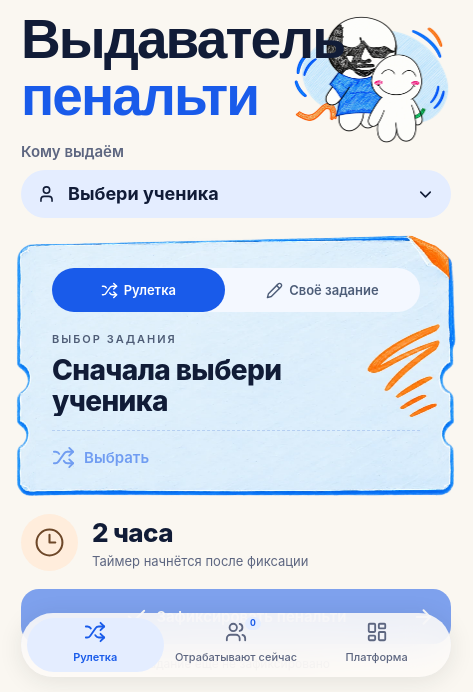
Test: the studio keeps the task title and full instructions, without a school wordmark
Select "@demo_peer" in the dropdown labelled "Кому выдаём". click: (236, 194)
box: [66,170,406,218]
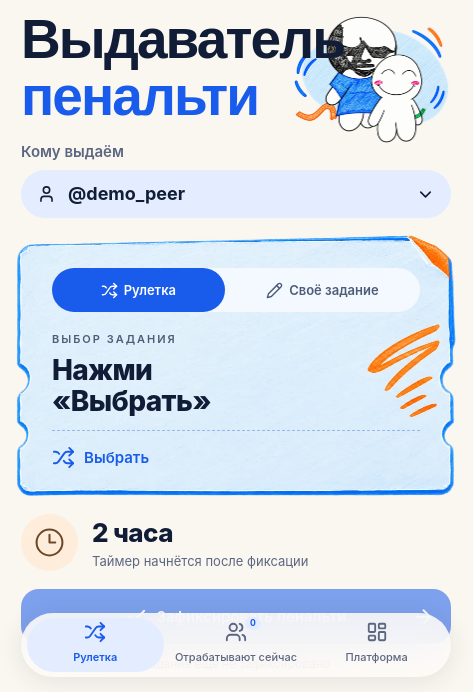
Click the button "Выбрать". click: (117, 458)
box: [52,430,420,474]
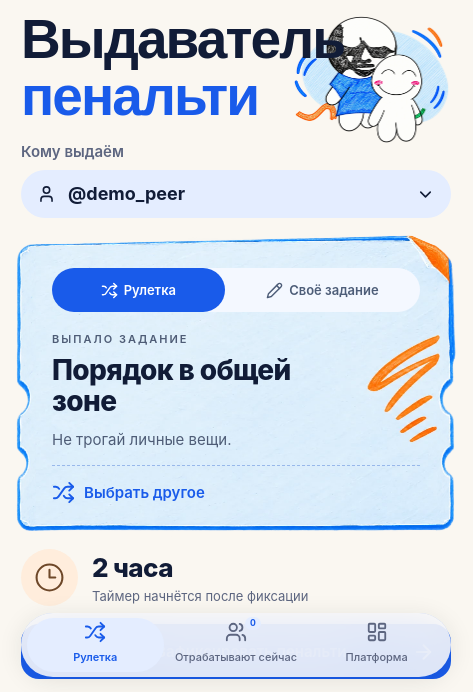
Result: the button "Зафиксировать пенальти" is enabled at [21,624,451,679]
Result: the text "Порядок в общей зоне" is shown at [52,355,297,416]
Result: the text "Не трогай личные вещи." is shown at [52,430,232,449]
